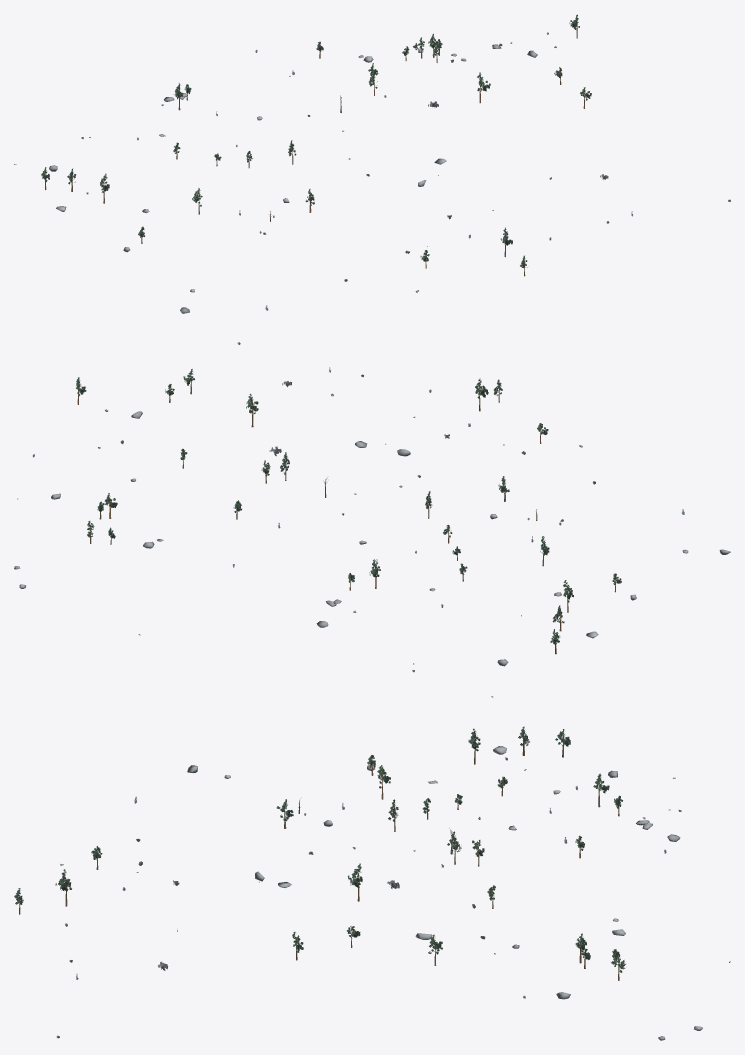
The model's file is frost_land_scatter_c23_09.glb.
The picture shows the model from 3 angles, top to bottom: view 1: azimuth 30°, elevation 25°; view 2: azimuth 150°, elevation 25°; view 3: azimuth 270°, elevation 25°; orthographic projection. The views are drawn at different scales.
Visible parts, largest first — view 1: frost_land_scatter_c23_09; view 2: frost_land_scatter_c23_09; view 3: frost_land_scatter_c23_09.
Boxes of the visible parts, x1=… form: frost_land_scatter_c23_09: x1=14, y1=14, x2=730, y2=313; frost_land_scatter_c23_09: x1=14, y1=342, x2=730, y2=697; frost_land_scatter_c23_09: x1=14, y1=726, x2=730, y2=1040.
Size of the model in its own units: 252 by 52.76 by 246.
